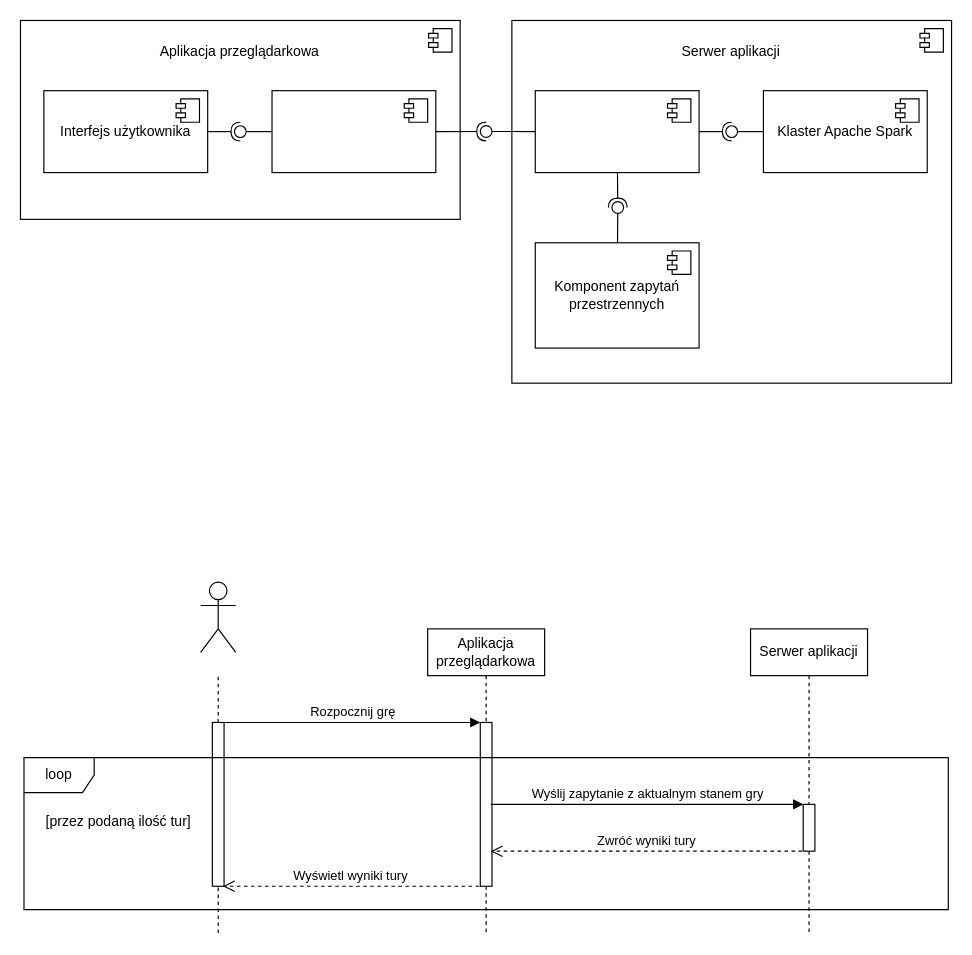
This 972x955 diagram has some shape labels left out. Here are the shapes that lost their labels. From the top down, the box of each, then its label:
(271, 90, 436, 173): Kontroler aplikacji
(534, 90, 699, 173): Serwer FastAPI
(199, 581, 236, 652): Użytkownik
